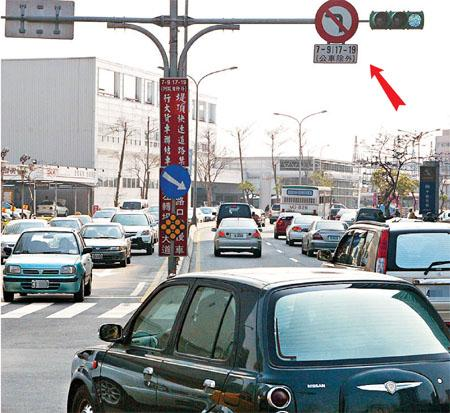green_traffic_light: (369, 9, 424, 29)
no_left_turn: (314, 0, 358, 41)
